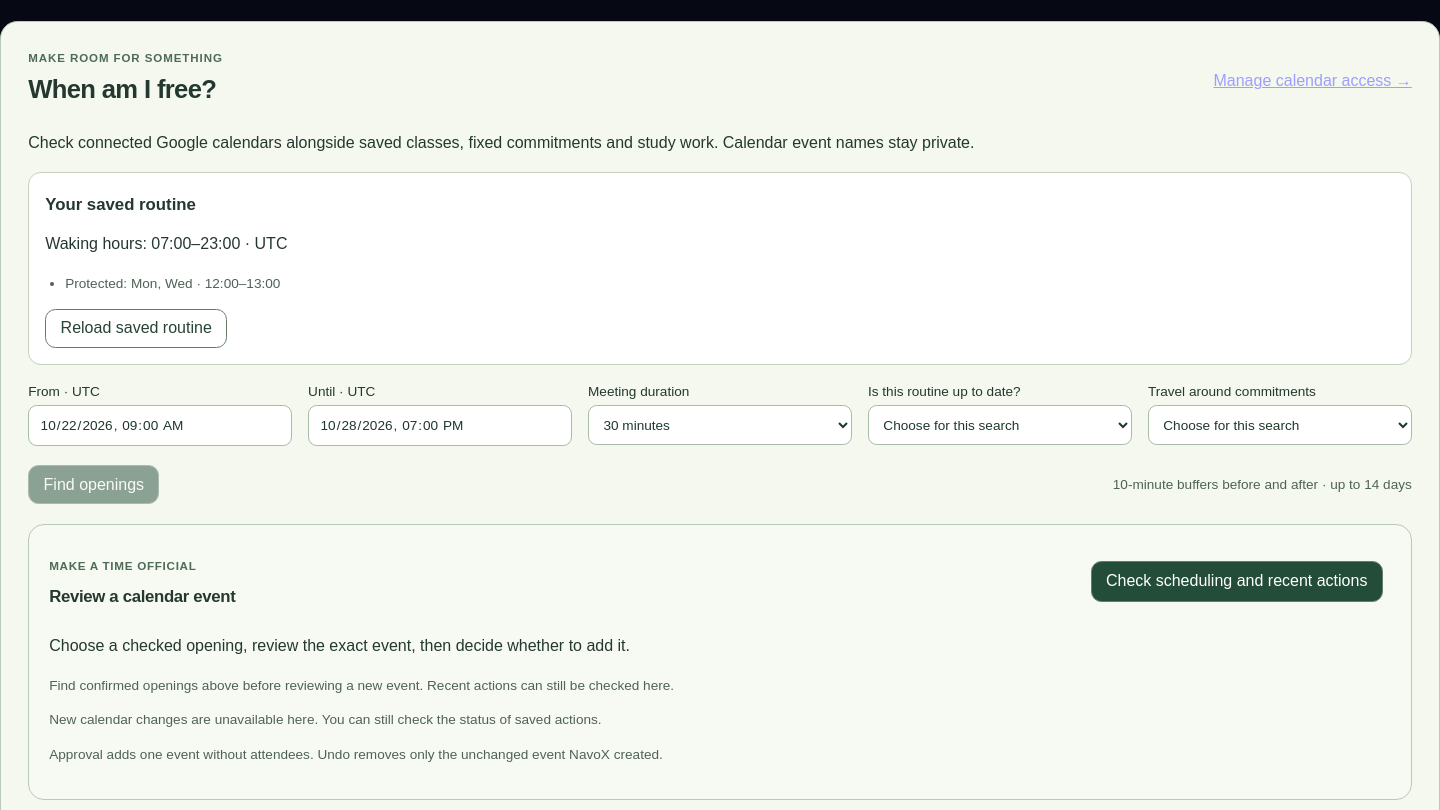
private calendar connection and availability screens › loads only saved routine metadata on mount and requires both explicit assumptions before provider reads
This screenshot has width=1440, height=810.
Expected: the button "Find openings" is disabled, [28,465,160,504]
Select "Yes, use these hours" in the dropdown labelled "Is this routine up to date?": (1000, 425) [868,405,1132,445]
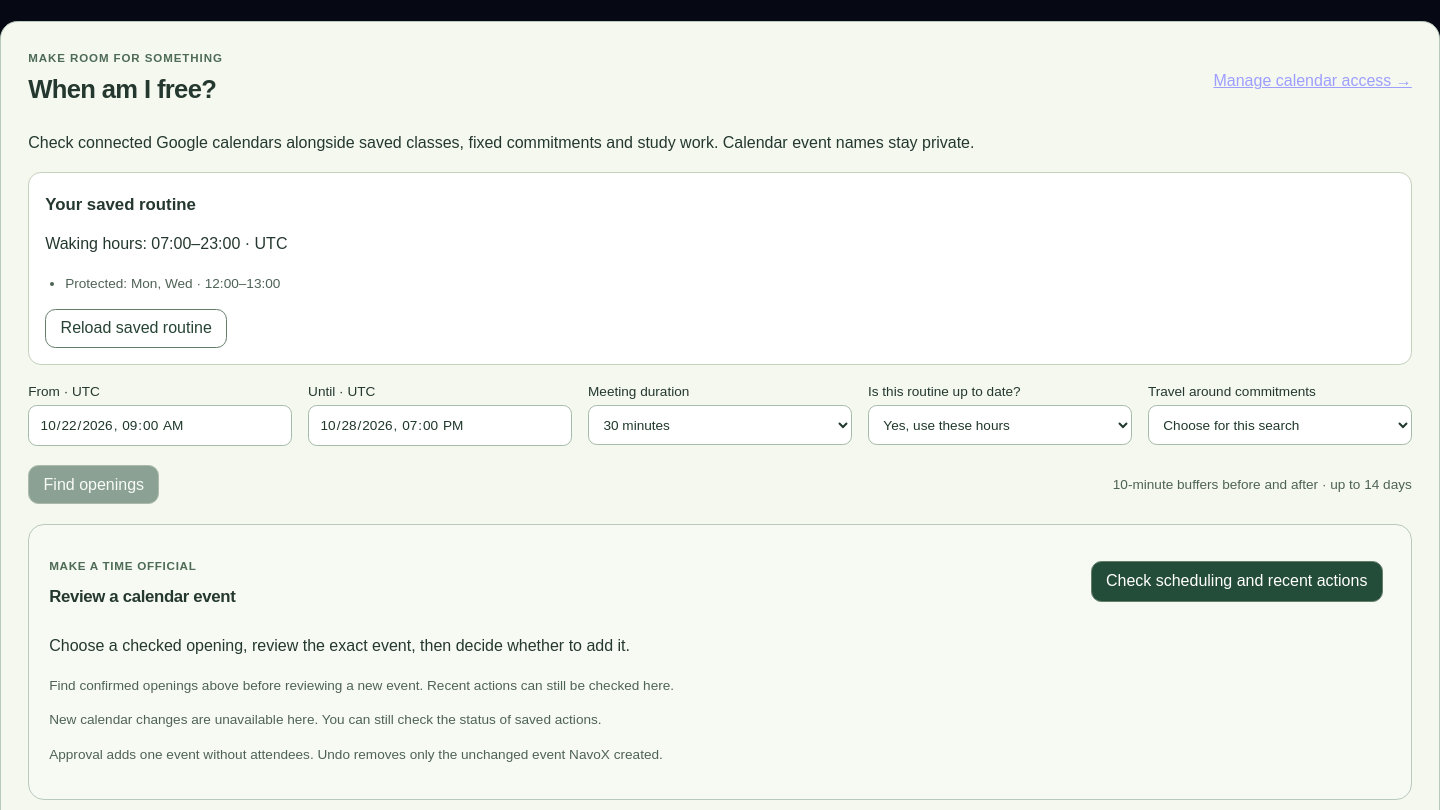
Expected: the button "Find openings" is disabled, [28,465,160,504]
Select "Assume no extra travel for this search" in the dropdown labelled "Travel around commitments": (1280, 425) [1148,405,1412,445]
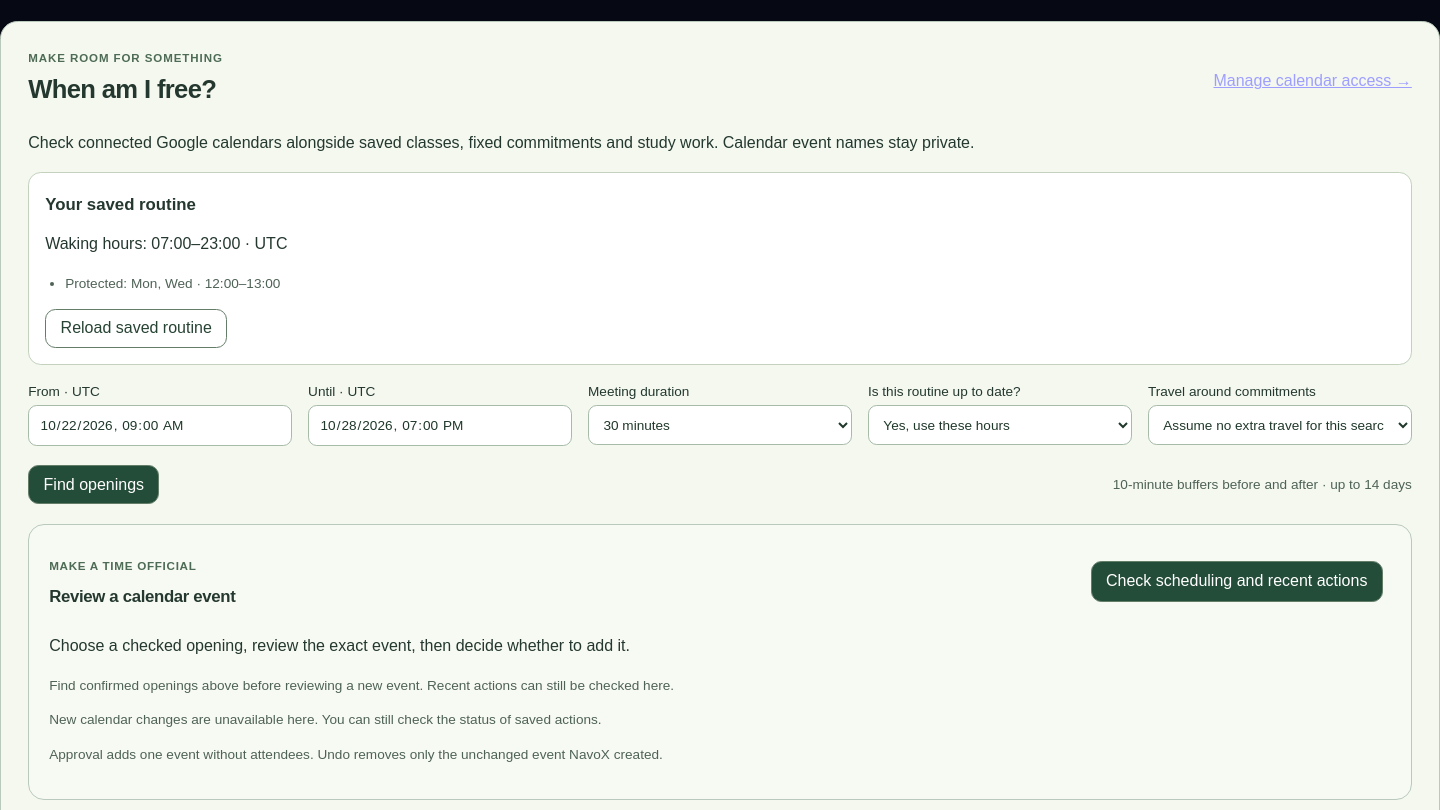
Expected: the button "Find openings" is enabled
Click the button "Find openings": (94, 484) [28,465,160,504]
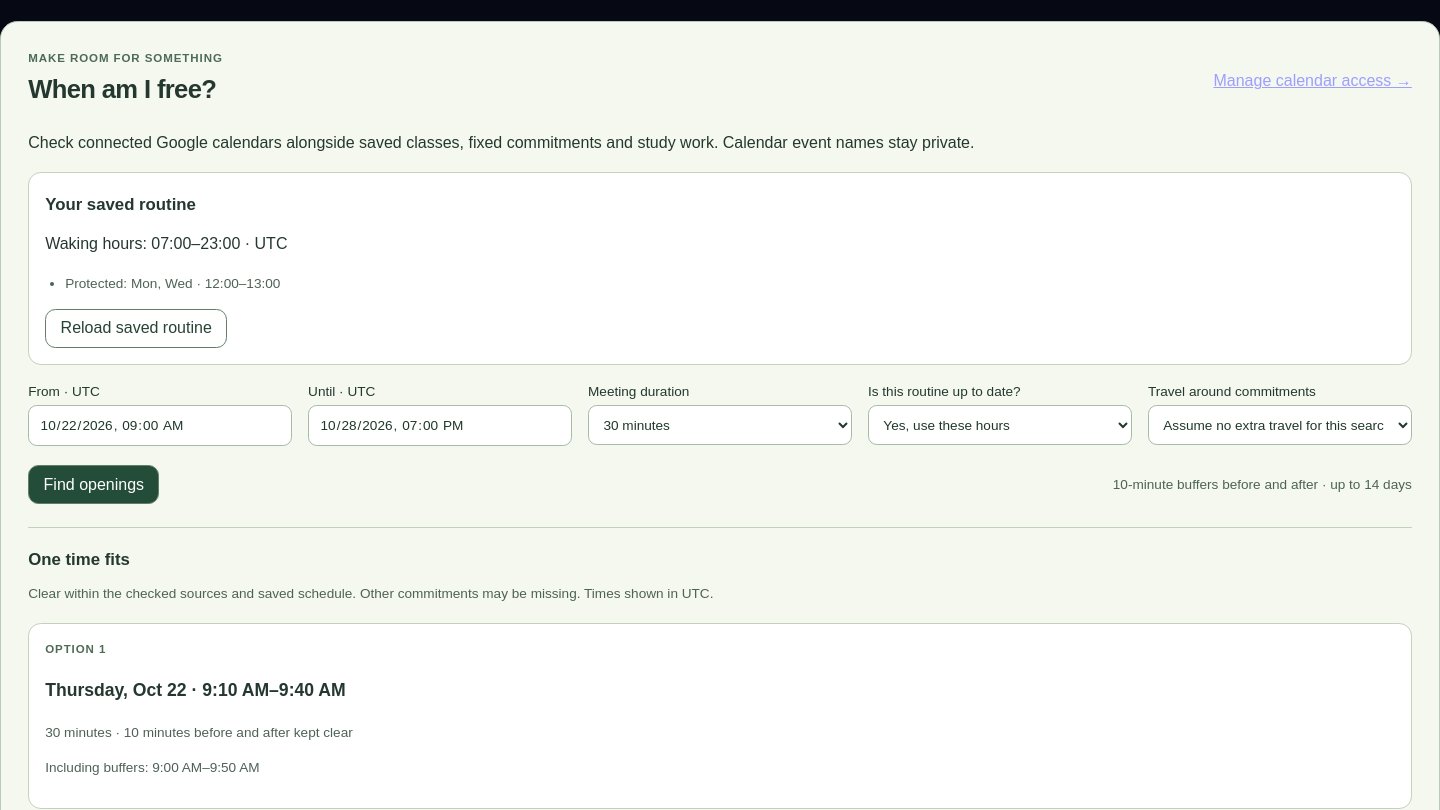
Expected: the text "One time fits" is shown, [28,550,130,569]
Expected: the text "10 minutes before and after kept clear" is shown, [60,725,353,740]
